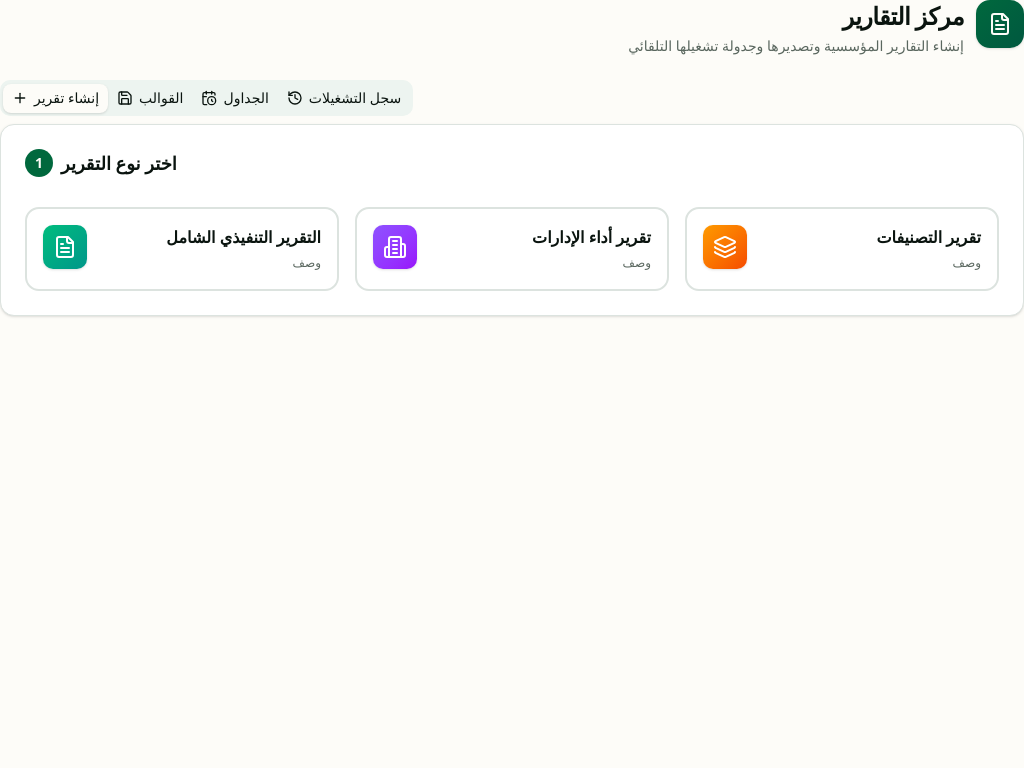
ReportsCenter › reveals the settings form and export buttons after selecting a report type
Click the heading "التقرير التنفيذي الشامل". click: (244, 237)
box: [166,226,321,248]
(page scrolled)
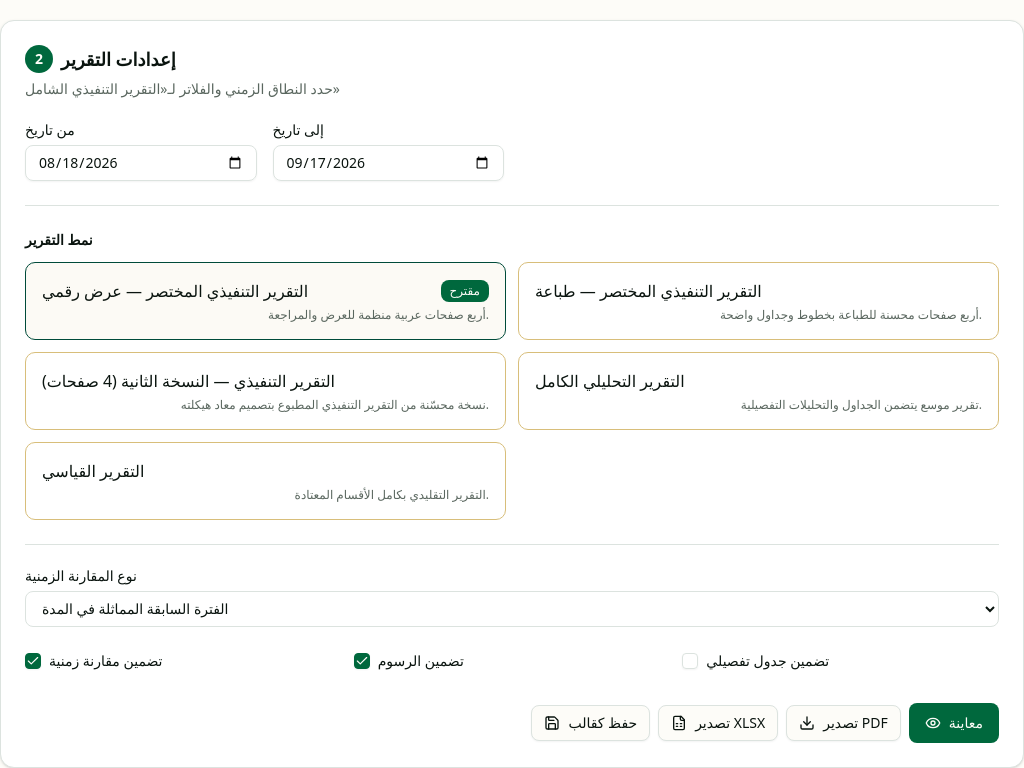
Expected: the text "2 إعدادات التقرير" is shown, [25,44,176,72]
Expected: the button "معاينة" is shown, [909,702,999,742]
Expected: the button "تصدير PDF" is shown, [786,704,901,740]
